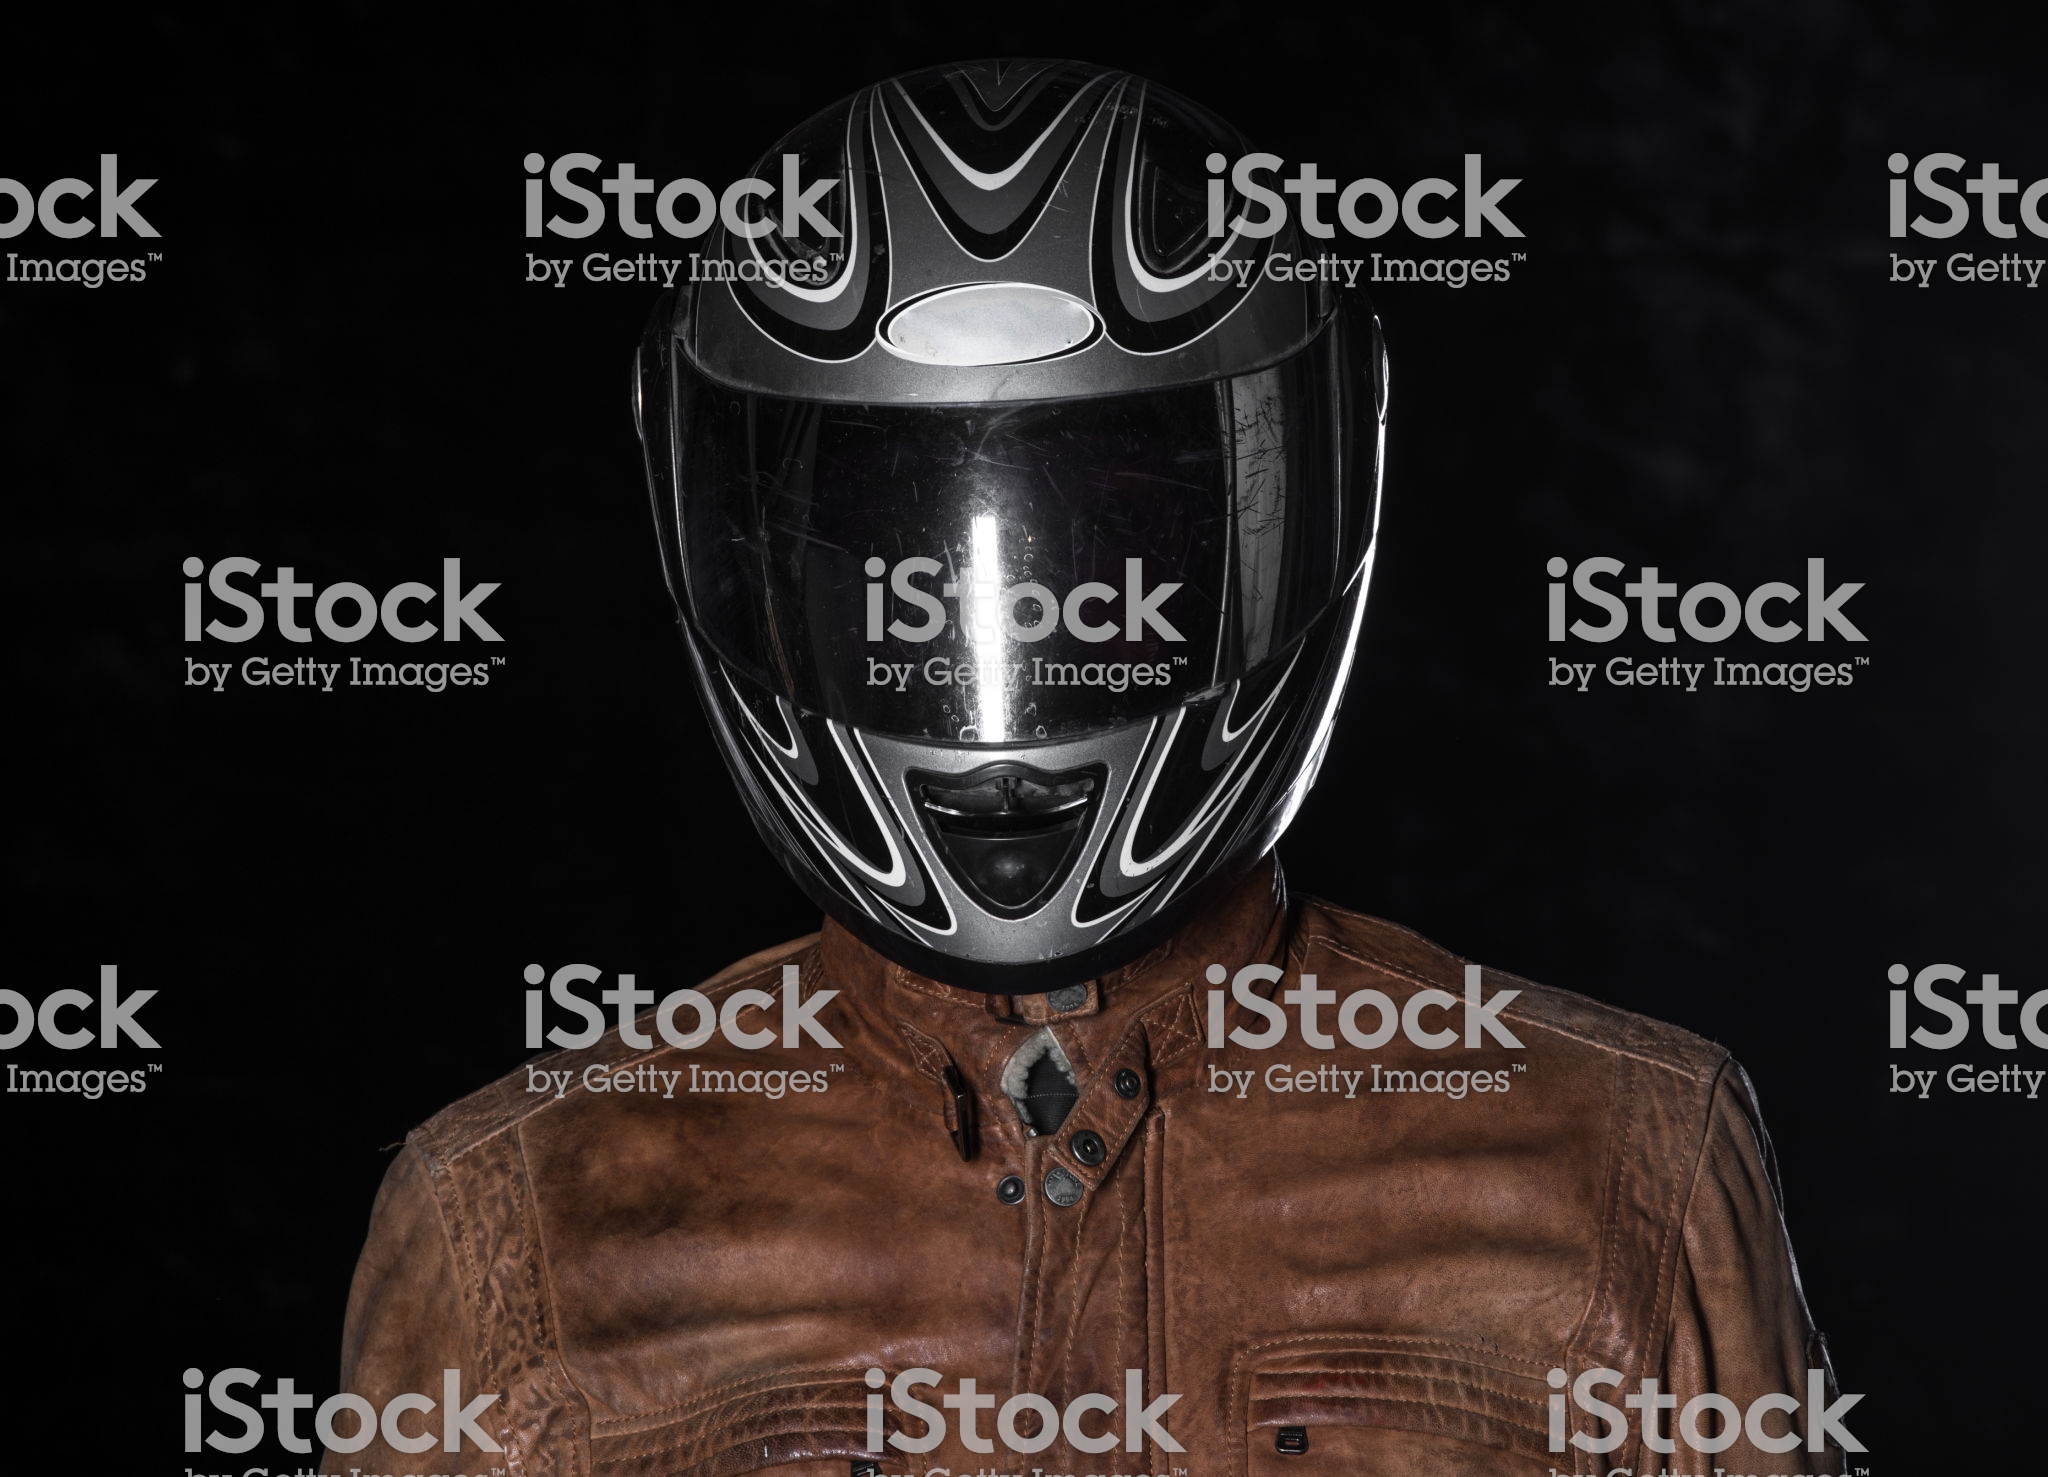helmet: (660, 64, 1434, 946)
